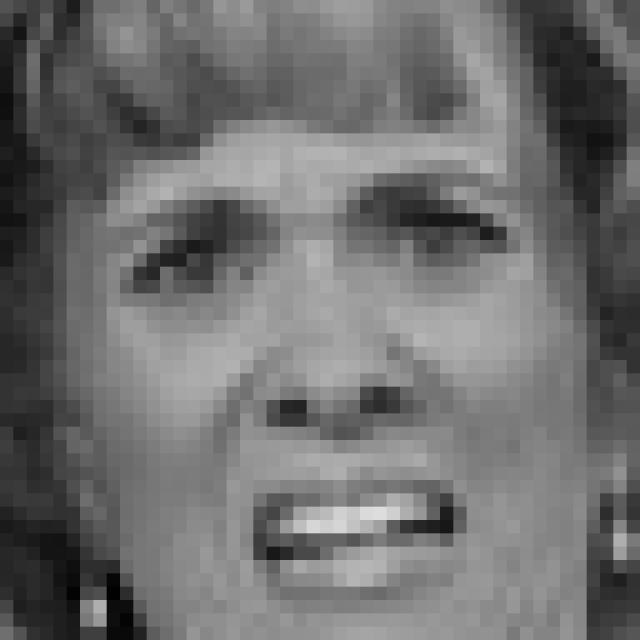disgust: (113, 161, 532, 614)
